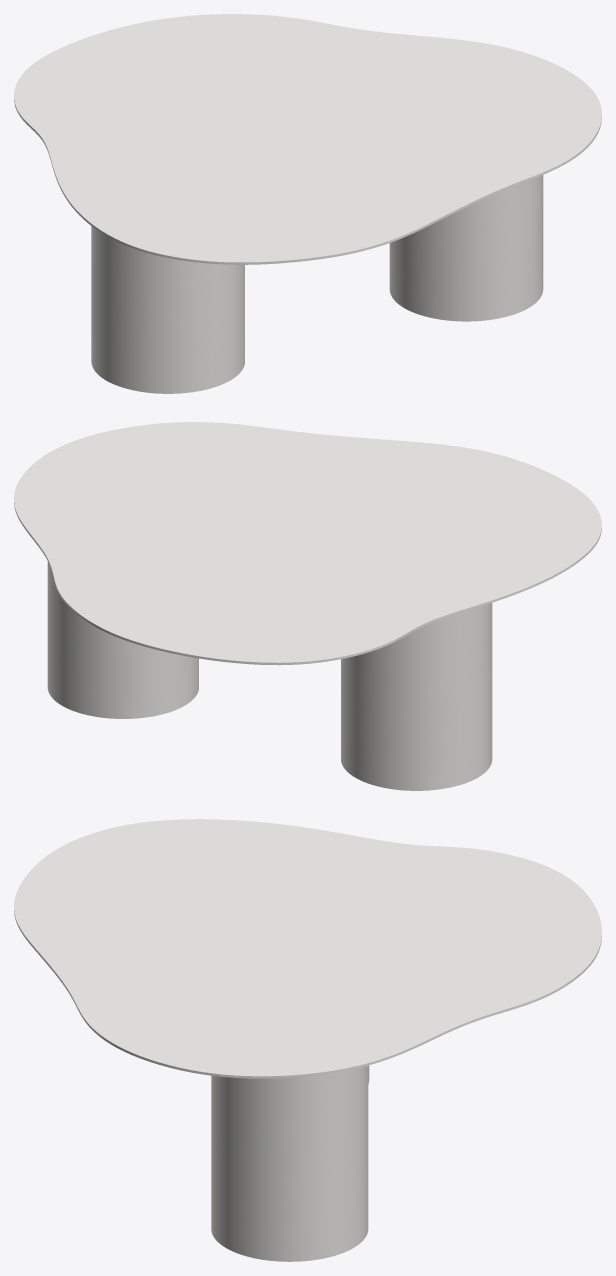
The model's file is purewhite_topone_facet_stream.glb.
The picture shows the model from 3 angles, top to bottom: view 1: azimuth 30°, elevation 25°; view 2: azimuth 150°, elevation 25°; view 3: azimuth 270°, elevation 25°; orthographic projection. The views are drawn at different scales.
Visible parts, largest first — view 1: facet_topone, stream; view 2: facet_topone, stream; view 3: facet_topone, stream.
Part boxes in pixels (x1,y1,x2,y2): facet_topone: (14, 14, 601, 264); stream: (91, 175, 543, 393); facet_topone: (14, 422, 601, 665); stream: (47, 561, 492, 790); facet_topone: (14, 819, 601, 1078); stream: (211, 1065, 369, 1261).
Bounding box in the file's own units: 6.83 × 2.5 × 6.6.
1 material, 1 textured.
